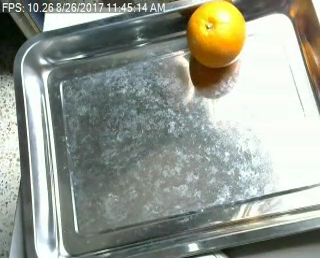Orange: (187, 1, 247, 69)
